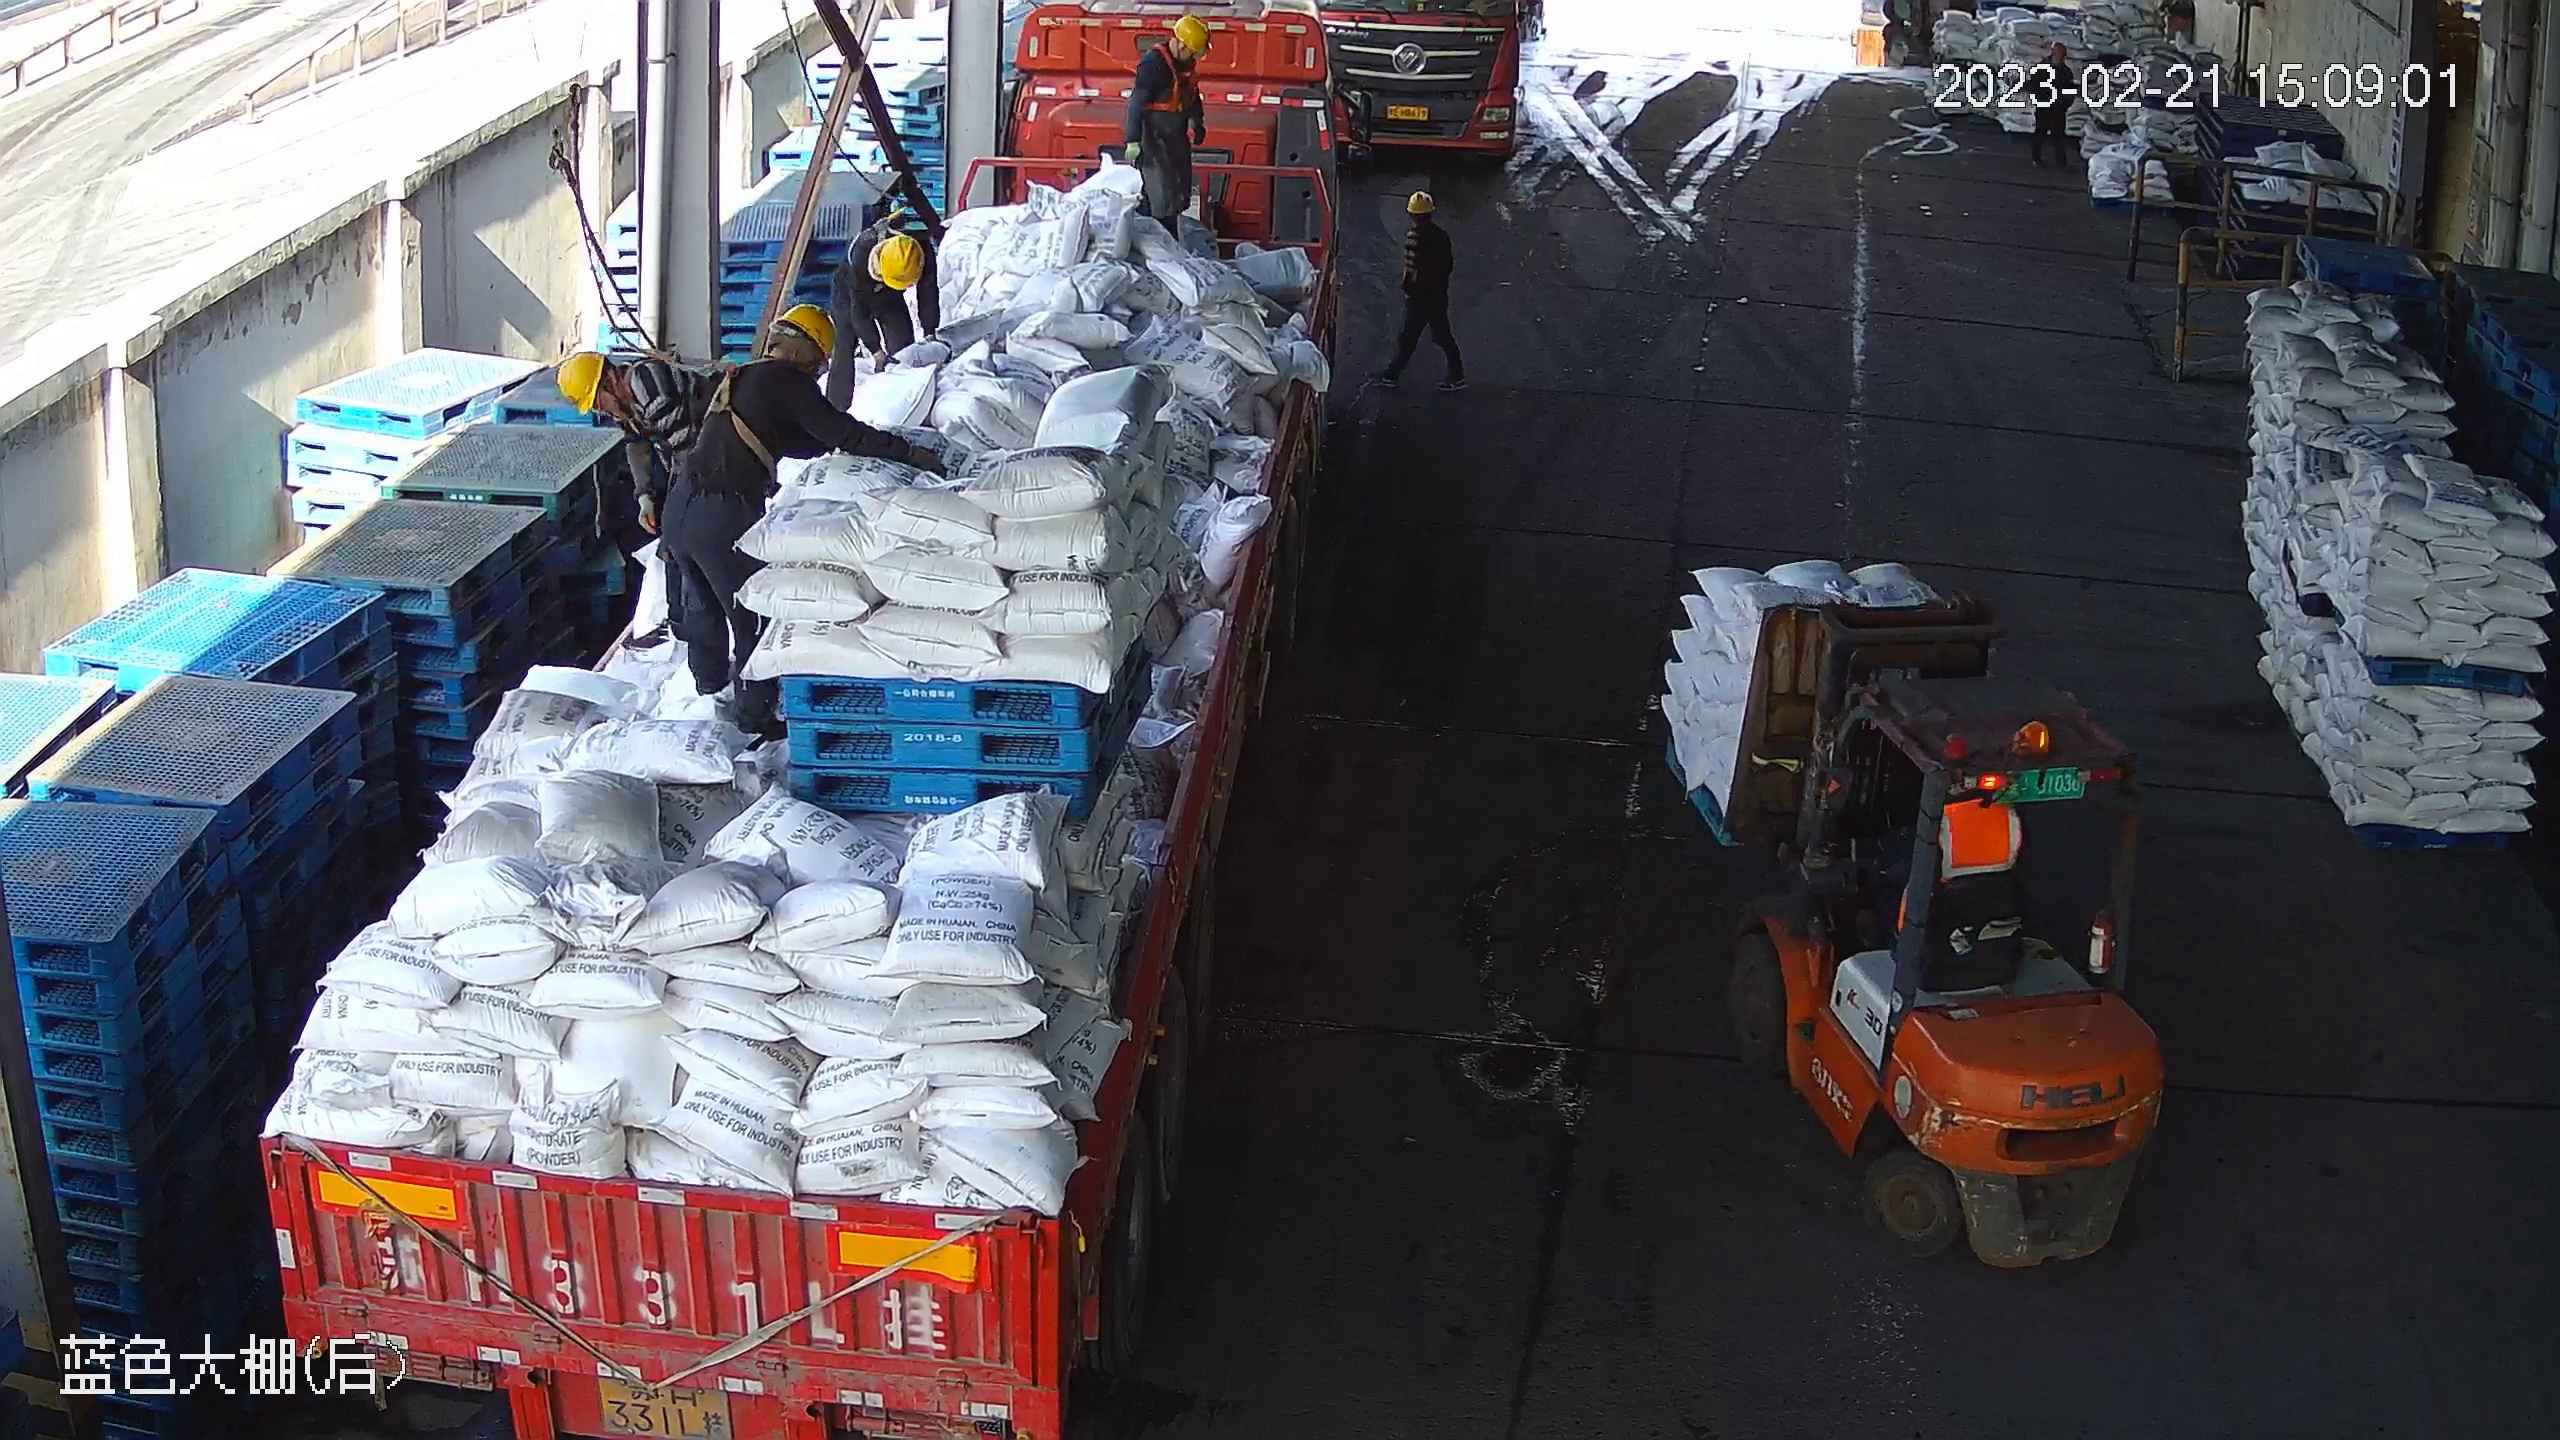belt: (690, 355, 785, 476), (1125, 44, 1204, 113), (620, 328, 699, 394)
head: (723, 303, 843, 405), (555, 350, 677, 425), (841, 228, 937, 293), (1129, 14, 1211, 76), (1403, 187, 1451, 249)
helmet: (767, 303, 835, 362), (555, 350, 604, 416), (880, 234, 925, 292), (1173, 13, 1212, 53), (1404, 191, 1436, 214)
people: (656, 300, 952, 749), (824, 226, 942, 414), (1119, 12, 1210, 237), (1374, 185, 1469, 393)
truck: (234, 2, 1344, 1440)
